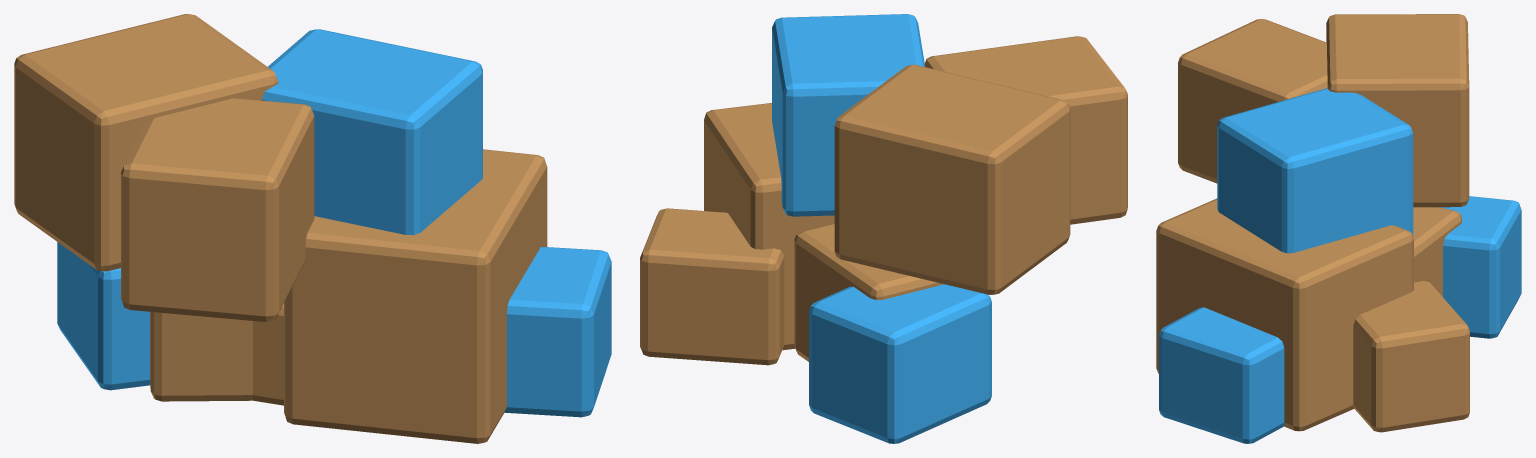
The model's file is box-pile.glb.
3 views of the same model, side by side, from view 1: azimuth 30°, elevation 25°; view 2: azimuth 150°, elevation 25°; view 3: azimuth 270°, elevation 25° (orthographic). The views are drawn at different scales.
Visible parts, largest first — view 1: box-pile; view 2: box-pile; view 3: box-pile.
Part boxes in pixels (<box>): box-pile: <box>14,14,611,443</box>; box-pile: <box>640,14,1127,443</box>; box-pile: <box>1156,14,1521,443</box>.
Size of the model in its own units: 2.51 by 1.6 by 2.06.
